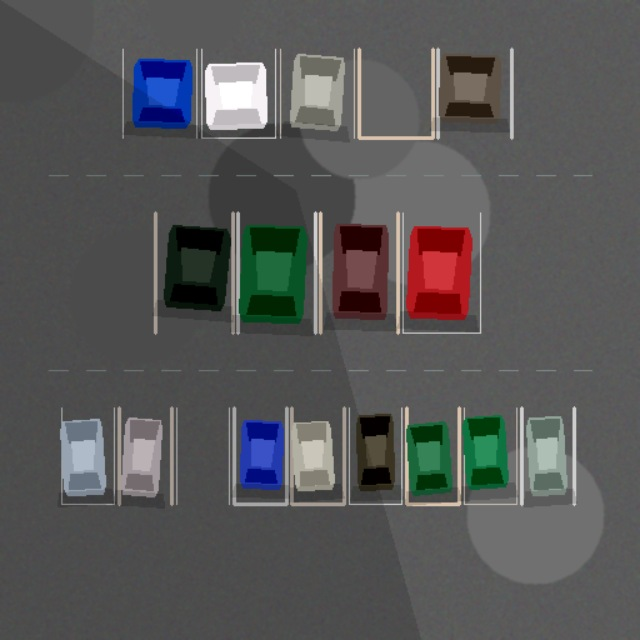space-empty: (359, 49, 432, 138), (176, 407, 229, 504)
space-occupied: (320, 212, 398, 332), (402, 212, 480, 332), (155, 212, 232, 332), (238, 212, 315, 332), (122, 49, 196, 138), (201, 49, 275, 138), (280, 49, 354, 138), (438, 49, 511, 138), (61, 407, 114, 504), (291, 407, 344, 504), (406, 407, 459, 504), (521, 407, 574, 504), (119, 407, 171, 504), (234, 407, 286, 504), (349, 407, 401, 504), (464, 407, 516, 504)
